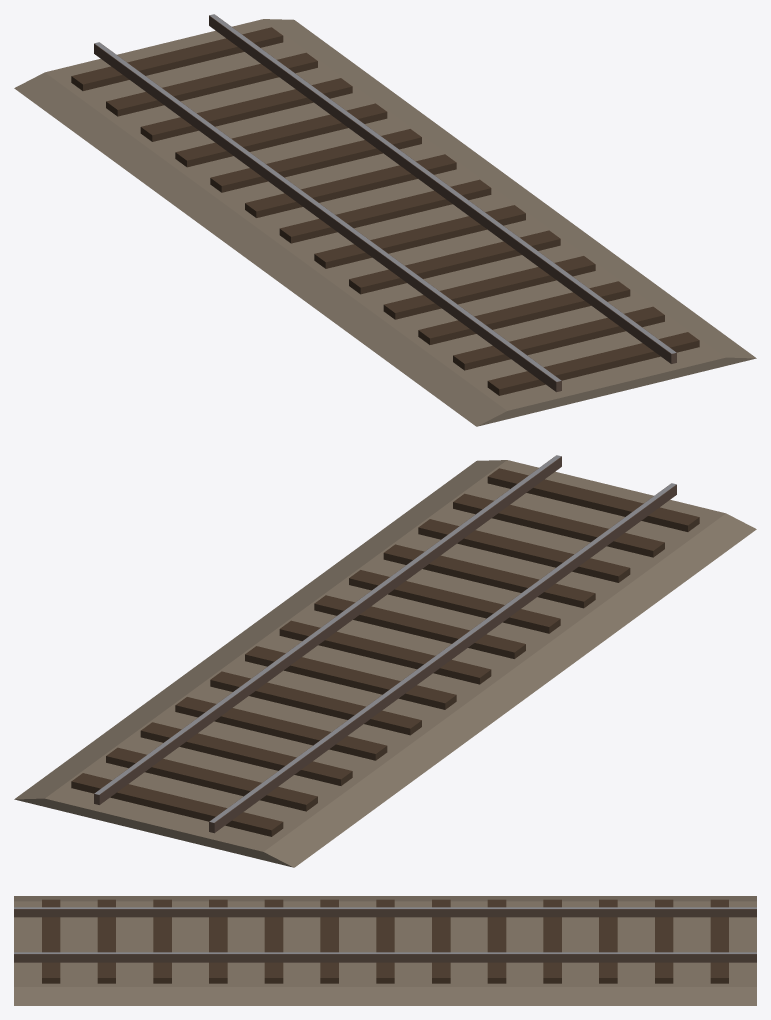
The model's file is track_straight.glb.
3 renders of one model, top to bottom at view 1: azimuth 30°, elevation 25°; view 2: azimuth 150°, elevation 25°; view 3: azimuth 270°, elevation 25°, orthographic. The views are drawn at different scales.
Parts seen in each view (by area): view 1: Body; view 2: Body; view 3: Body.
Part boxes in pixels (x1=…): Body: x1=14, y1=14, x2=756, y2=426; Body: x1=14, y1=455, x2=756, y2=867; Body: x1=14, y1=896, x2=756, y2=1005.
Size of the model in its own units: 3.5 by 0.302 by 10.
